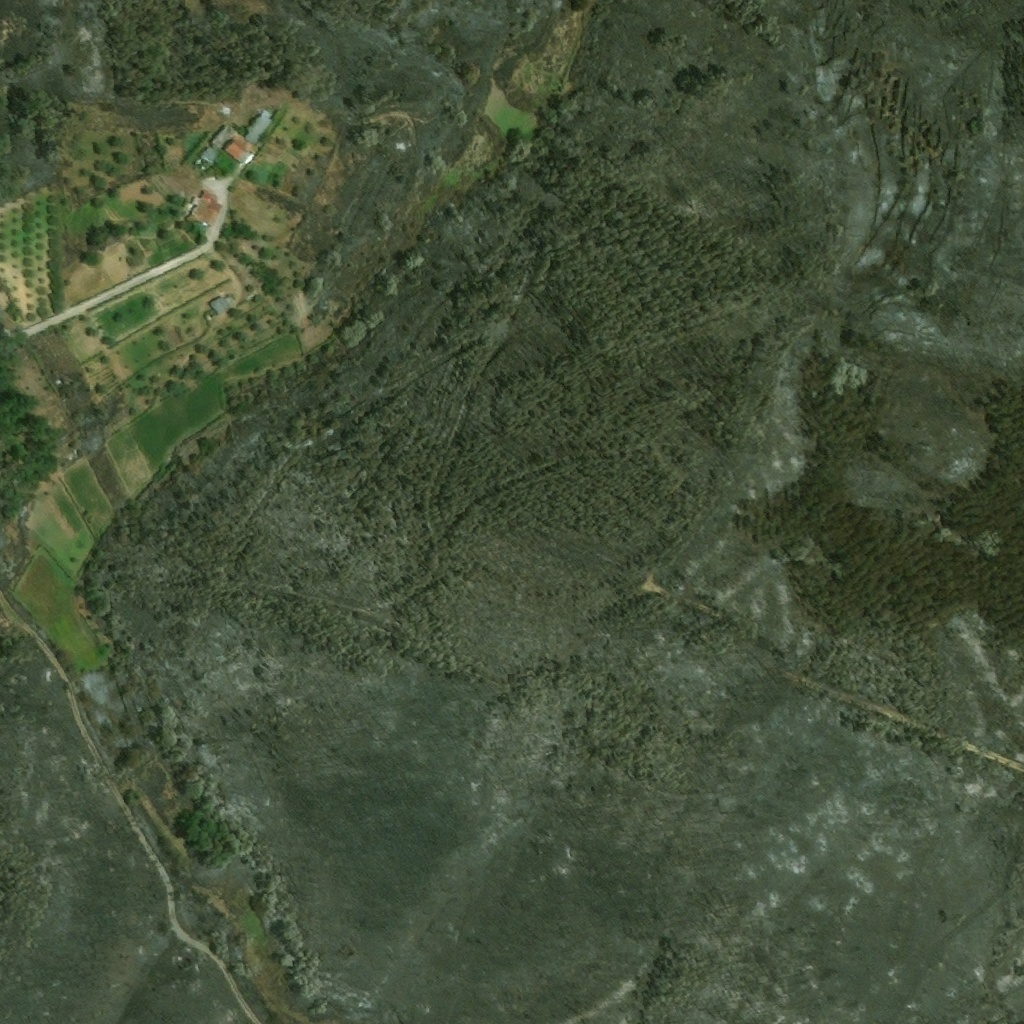0 no-damage: (190, 189, 224, 227), (245, 108, 272, 143), (225, 137, 254, 164), (211, 123, 238, 147), (207, 293, 234, 314), (201, 145, 219, 164)
4 un-classified: (236, 299, 257, 314), (215, 103, 231, 116)
